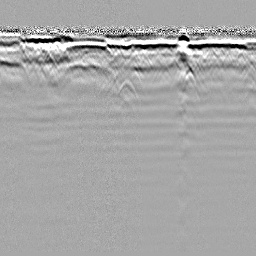cavity: (117, 76, 138, 98)
